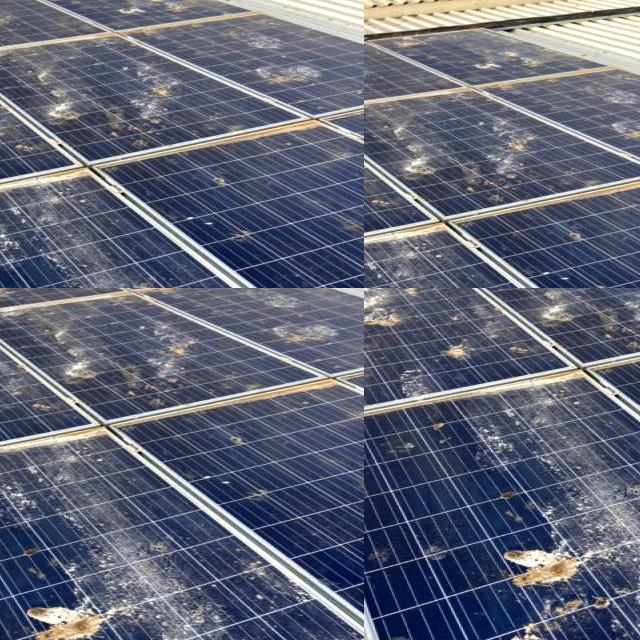bird: (479, 534, 621, 598), (8, 590, 126, 640), (0, 569, 57, 640), (294, 545, 364, 598), (524, 288, 598, 338), (194, 606, 291, 640), (438, 327, 511, 372), (364, 288, 418, 345), (606, 288, 640, 332)
shadow: (364, 29, 414, 173), (364, 0, 397, 142), (364, 56, 400, 148)
